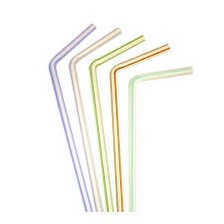drinking_straw: (121, 62, 197, 214), (43, 21, 99, 213)
